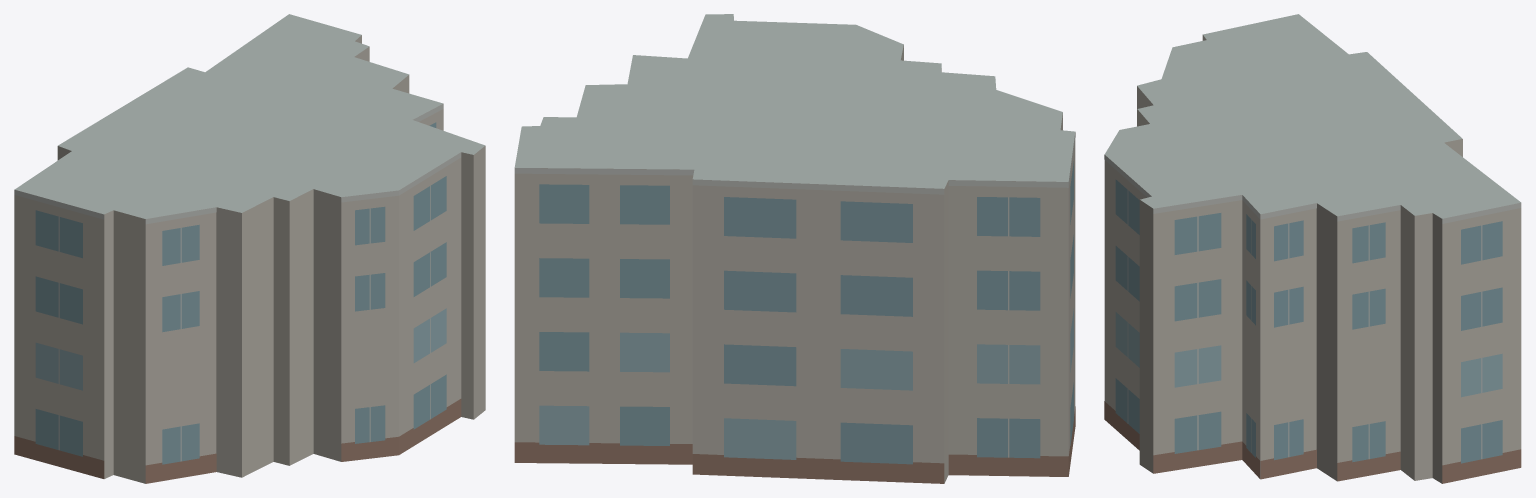
File: survey-upis-32577777.glb
3 renders of one model, left to right at view 1: azimuth 30°, elevation 25°; view 2: azimuth 150°, elevation 25°; view 3: azimuth 270°, elevation 25°, orthographic. The views are drawn at different scales.
Visible parts, largest first — view 1: survey-upis-32577777.tmp; view 2: survey-upis-32577777.tmp; view 3: survey-upis-32577777.tmp.
Part boxes in pixels (x1,y1,x2,y2): survey-upis-32577777.tmp: (14,14,485,483); survey-upis-32577777.tmp: (514,14,1075,483); survey-upis-32577777.tmp: (1104,14,1521,483).
Bounding box in the file's own units: 20.39 × 12.3 × 17.54.
